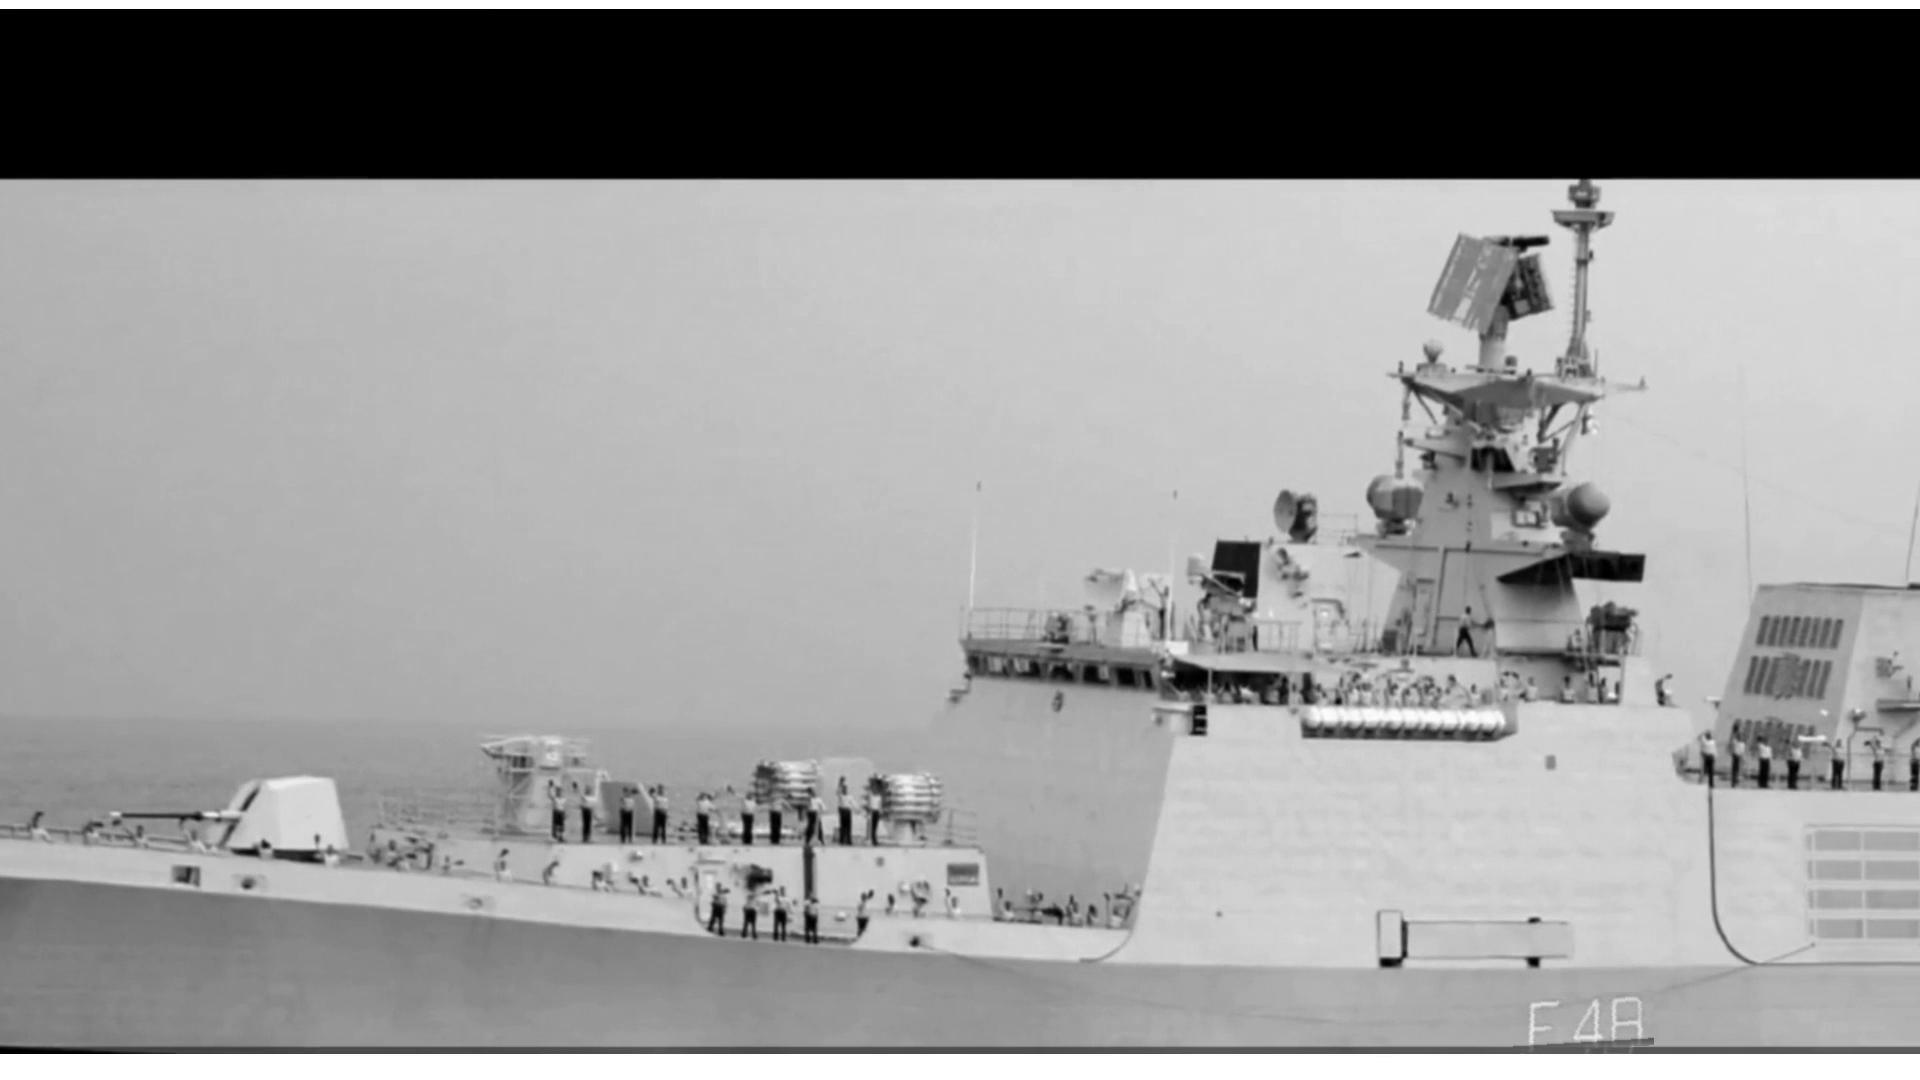OCR: (1497, 993, 1655, 1055)
